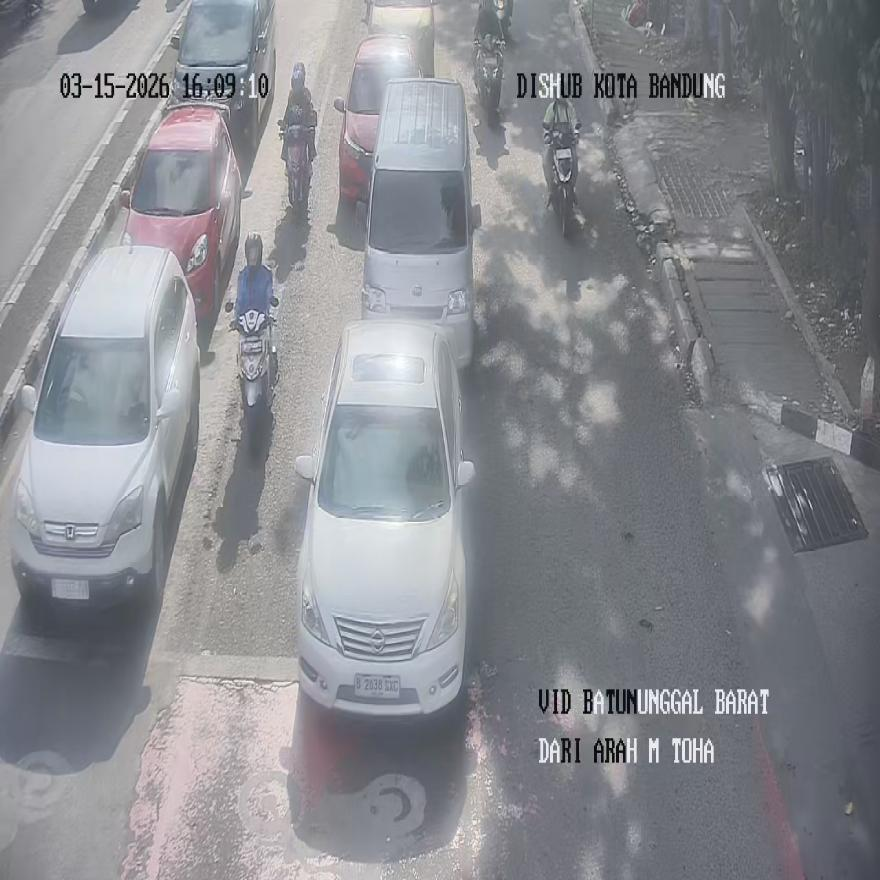Motor: (294, 319, 475, 716), (8, 240, 201, 608), (354, 77, 480, 368), (120, 99, 242, 323), (170, 0, 276, 148), (334, 34, 418, 207), (364, 0, 436, 77)
Truk: (227, 297, 278, 434), (544, 127, 578, 238), (281, 118, 314, 224), (474, 38, 503, 126), (493, 0, 513, 44)
